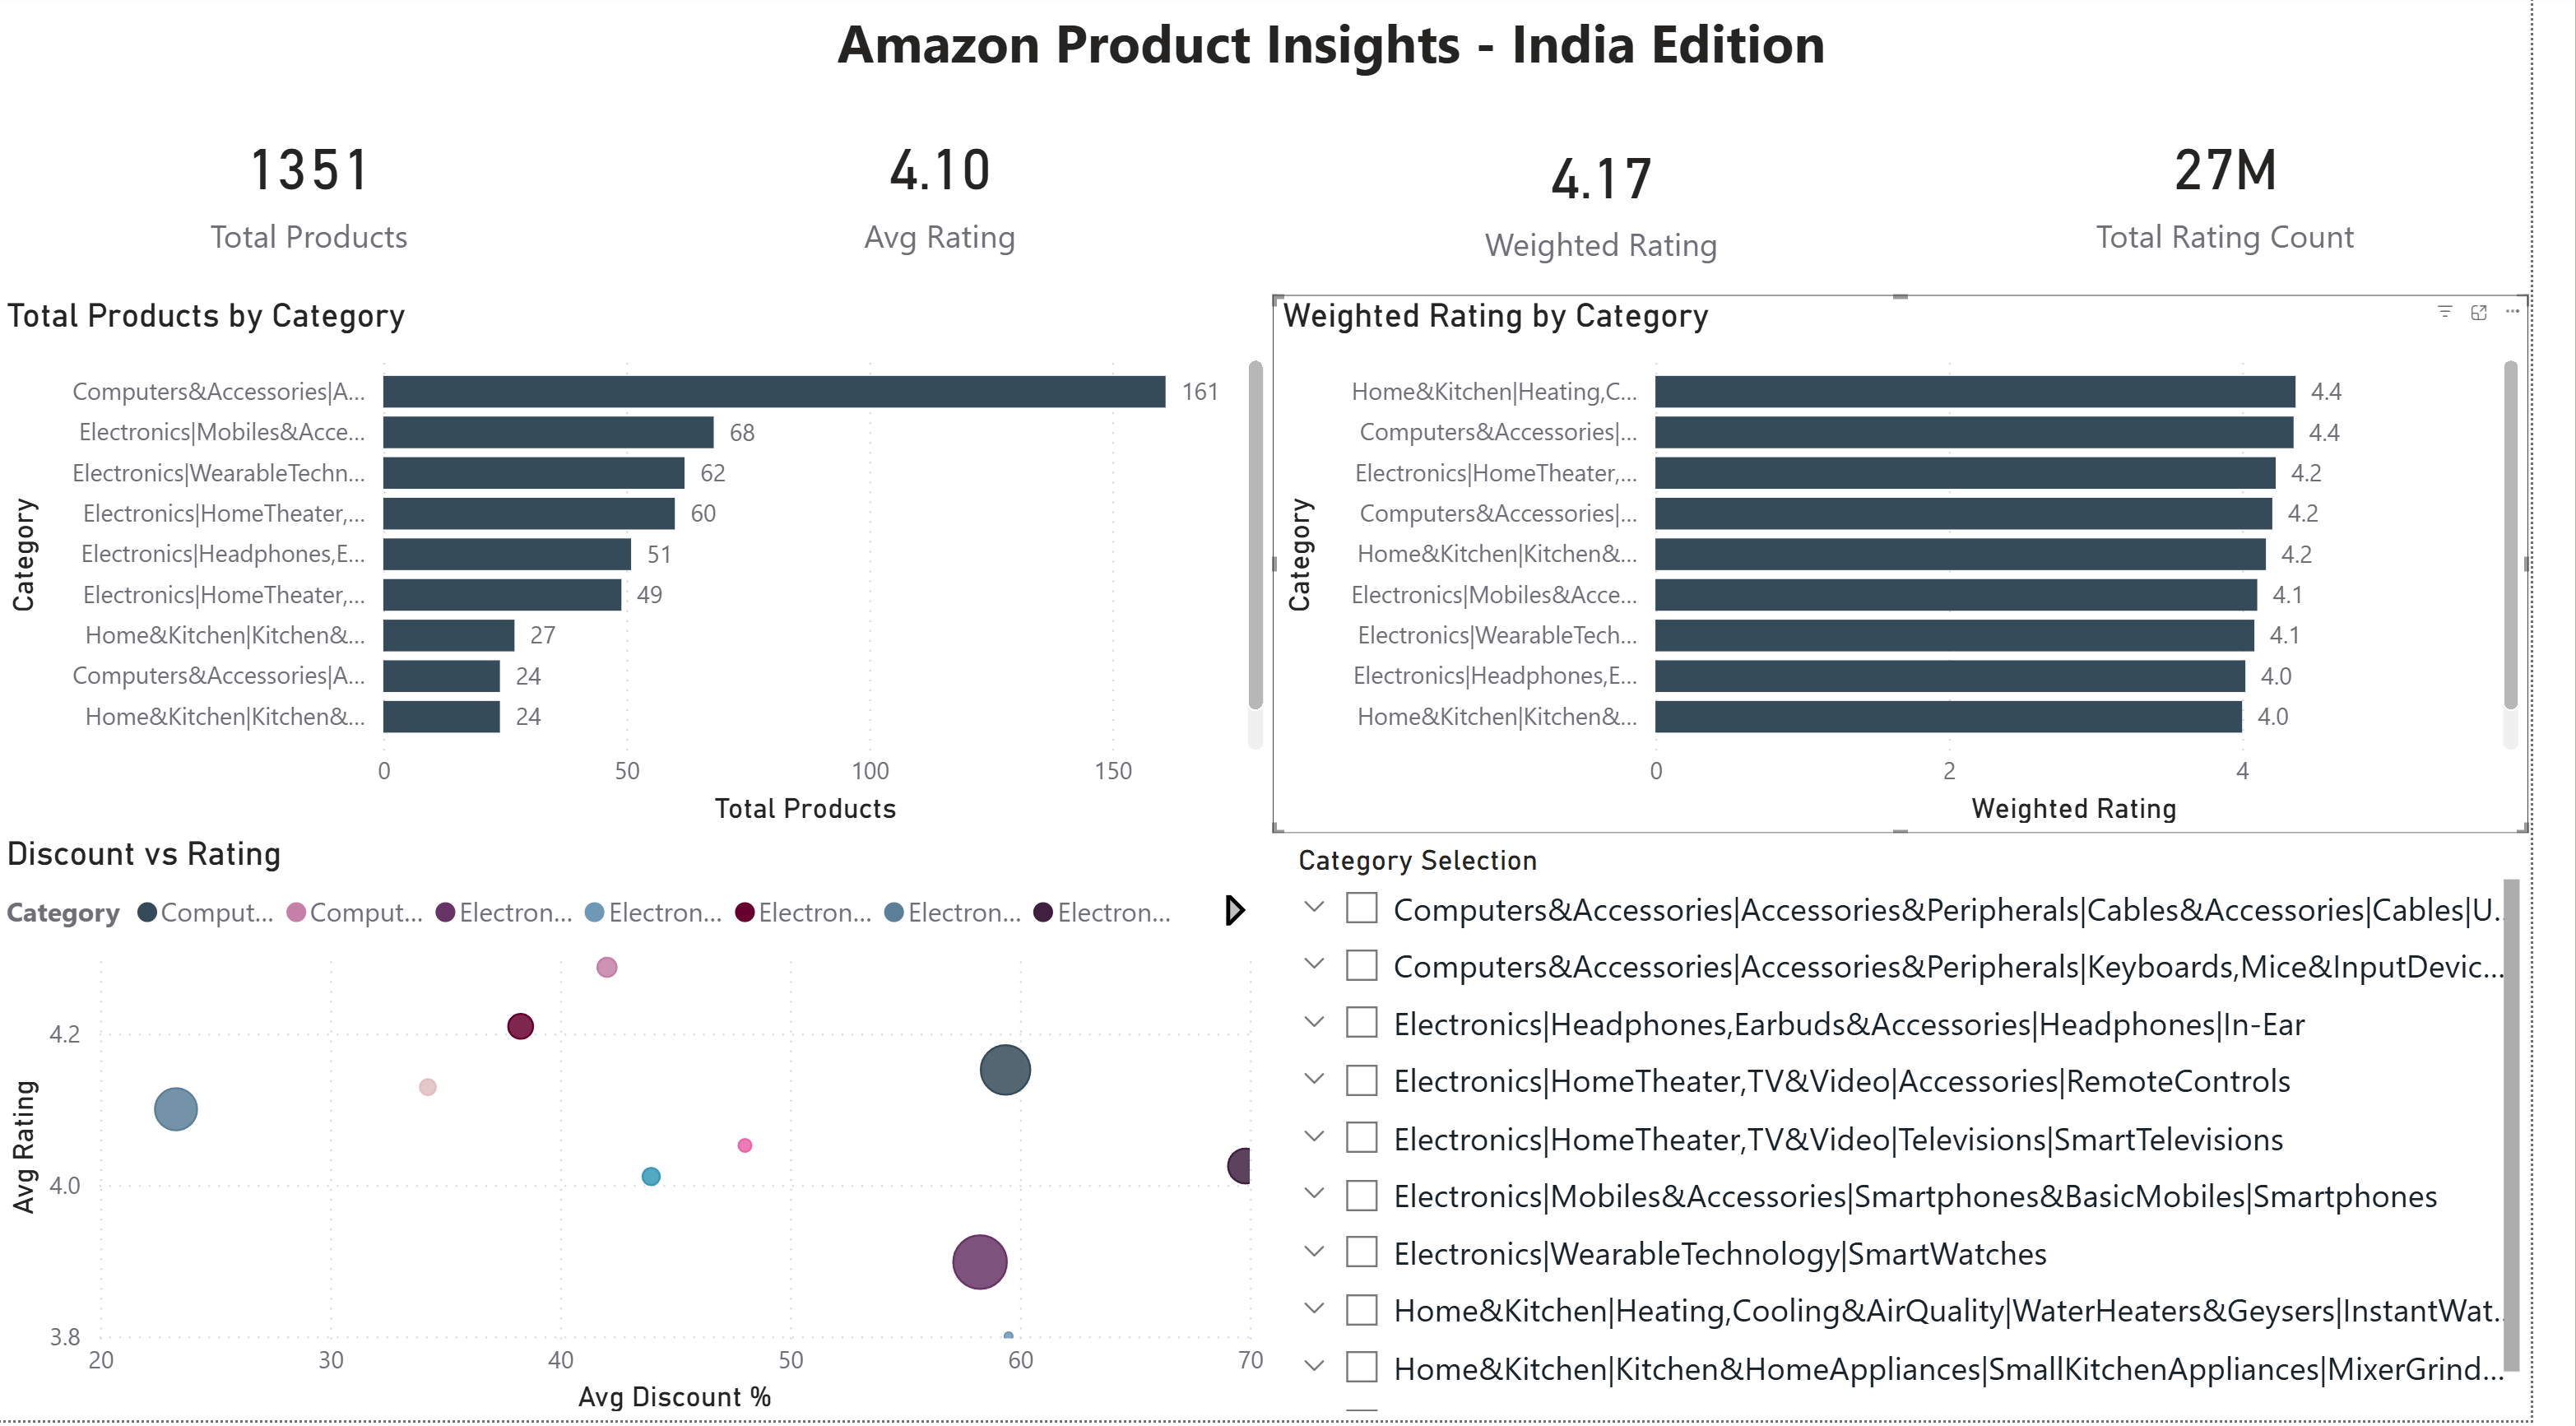

Layout of this report page (visuals, bound fields, positions):
{"tool":"powerbi","page":{"name":"Page 1","canvas":[1280,720],"ordinal":0},"visuals":[{"type":"card","fields":{"Values":["Amazon_Products.Total Products"]},"box":[0,49.7,315.2,93.5],"z":0},{"type":"card","fields":{"Values":["Amazon_Products.Average Rating"]},"box":[322.4,49.7,308,93.5],"z":1},{"type":"card","fields":{"Values":["Amazon_Products.Weighted Rating"]},"box":[630.4,49.7,360.3,102],"z":2},{"type":"card","fields":{"Values":["Amazon_Products.Total Rating Count"]},"box":[972.4,49.7,307.4,93.5],"z":3},{"type":"clusteredBarChart","fields":{"Category":["Amazon_Products.category"],"Y":["Amazon_Products.Total Products"]},"box":[0,151.7,644.8,271.4],"z":4},{"type":"barChart","fields":{"Category":["Amazon_Products.category"],"Y":["Amazon_Products.Weighted Rating"]},"box":[644.8,151.7,634.3,271.4],"z":5},{"type":"scatterChart","title":"Discount vs Rating","fields":{"Size":["Sum(Amazon_Products.rating_count)"],"X":["Amazon_Products.Avg Discount %"],"Y":["Amazon_Products.Average Rating"],"Series":["Amazon_Products.Category Hierarchy.Category"]},"box":[0,423.1,644.8,296.9],"z":6},{"type":"slicer","fields":{"Values":["Amazon_Products.category","Amazon_Products.Price Band"]},"box":[644.8,423.1,635,296.9],"z":7},{"type":"textbox","box":[419.8,0,523.8,49.7],"z":8}]}

Visuals, with their boxes in screenshot pixels (x1, y1, x2, y2), scaled from the page's 1280x720 canvas onto the 2576x1426 screenshot:
card - Amazon_Products.Total Products: pyautogui.locateOnScreen(0, 99, 634, 284)
card - Amazon_Products.Average Rating: pyautogui.locateOnScreen(649, 99, 1269, 284)
card - Amazon_Products.Weighted Rating: pyautogui.locateOnScreen(1269, 99, 1993, 300)
card - Amazon_Products.Total Rating Count: pyautogui.locateOnScreen(1957, 99, 2575, 284)
clusteredBarChart - Amazon_Products.category x Amazon_Products.Total Products: pyautogui.locateOnScreen(0, 300, 1297, 838)
barChart - Amazon_Products.category x Amazon_Products.Weighted Rating: pyautogui.locateOnScreen(1297, 300, 2574, 838)
"Discount vs Rating" scatterChart: pyautogui.locateOnScreen(0, 838, 1297, 1425)
slicer - Amazon_Products.category x Amazon_Products.Price Band: pyautogui.locateOnScreen(1297, 838, 2575, 1425)
textbox: pyautogui.locateOnScreen(845, 0, 1899, 99)
